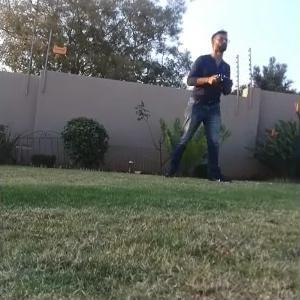follow: (164, 23, 240, 189)
